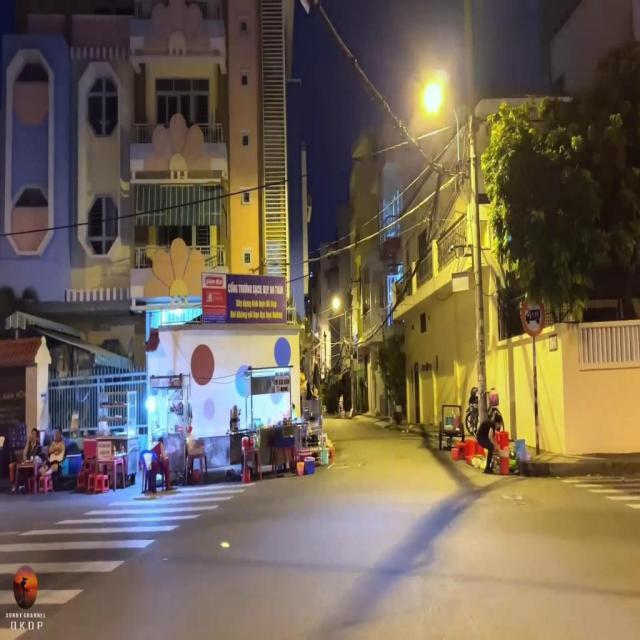106-cam-oto-tai: (521, 294, 546, 338)
